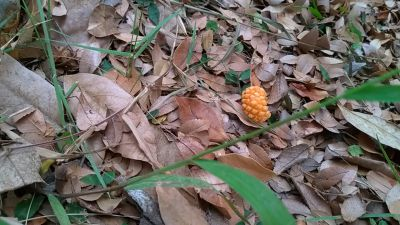eggs: (239, 84, 275, 124)
